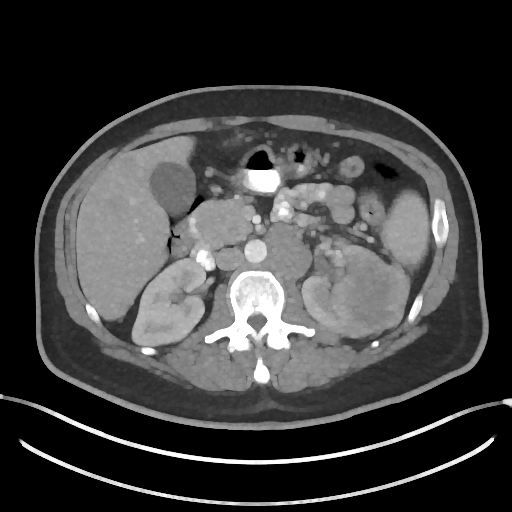Lesion: (331, 258, 412, 343)
